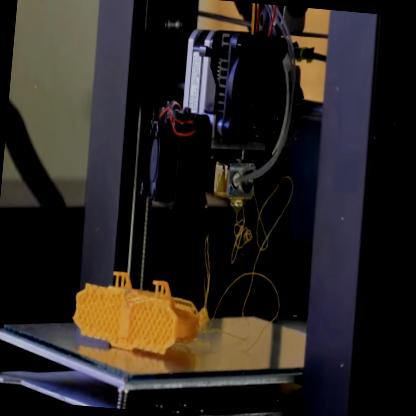fail: (198, 202, 275, 341)
